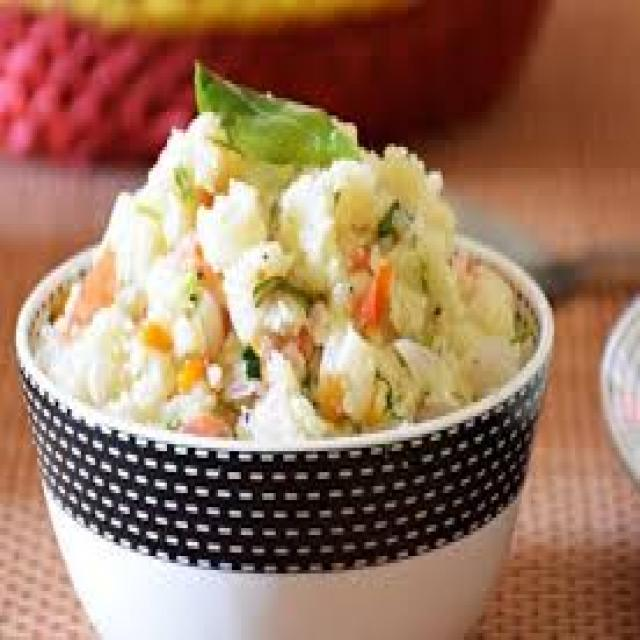UPMA: (33, 105, 524, 435)
